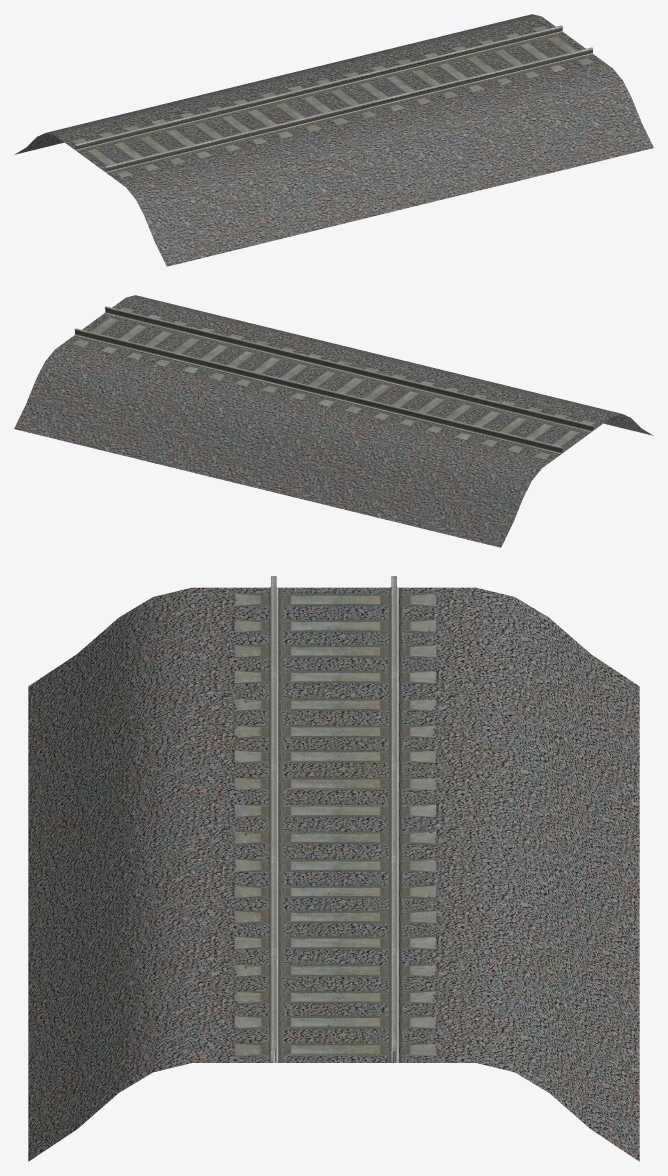
Rendered from Rail_Straight.fbx.
3 renders of one model, top to bottom at view 1: azimuth 30°, elevation 25°; view 2: azimuth 150°, elevation 25°; view 3: azimuth 270°, elevation 25°, orthographic. The views are drawn at different scales.
Visible parts, largest first — view 1: Rail_Straight; view 2: Rail_Straight; view 3: Rail_Straight.
Boxes of the visible parts, x1,y1,x2,y2 form: Rail_Straight: [14, 14, 653, 266]; Rail_Straight: [14, 295, 653, 547]; Rail_Straight: [28, 576, 639, 1161].
Bounding box in the file's own units: 10.3 × 5.6 × 1.12.
